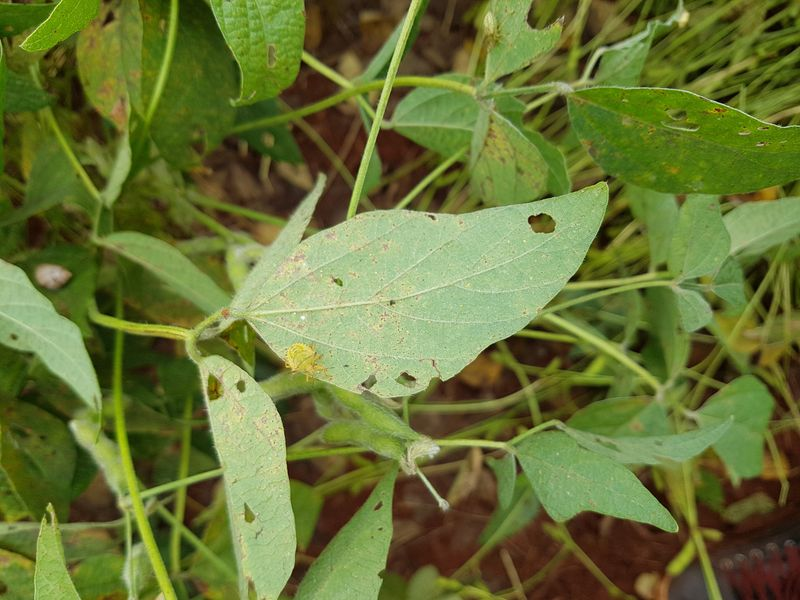Euschistus_heros_ninfa: (274, 337, 338, 392), (472, 8, 509, 47)
Gastropoda: (27, 254, 81, 300)
